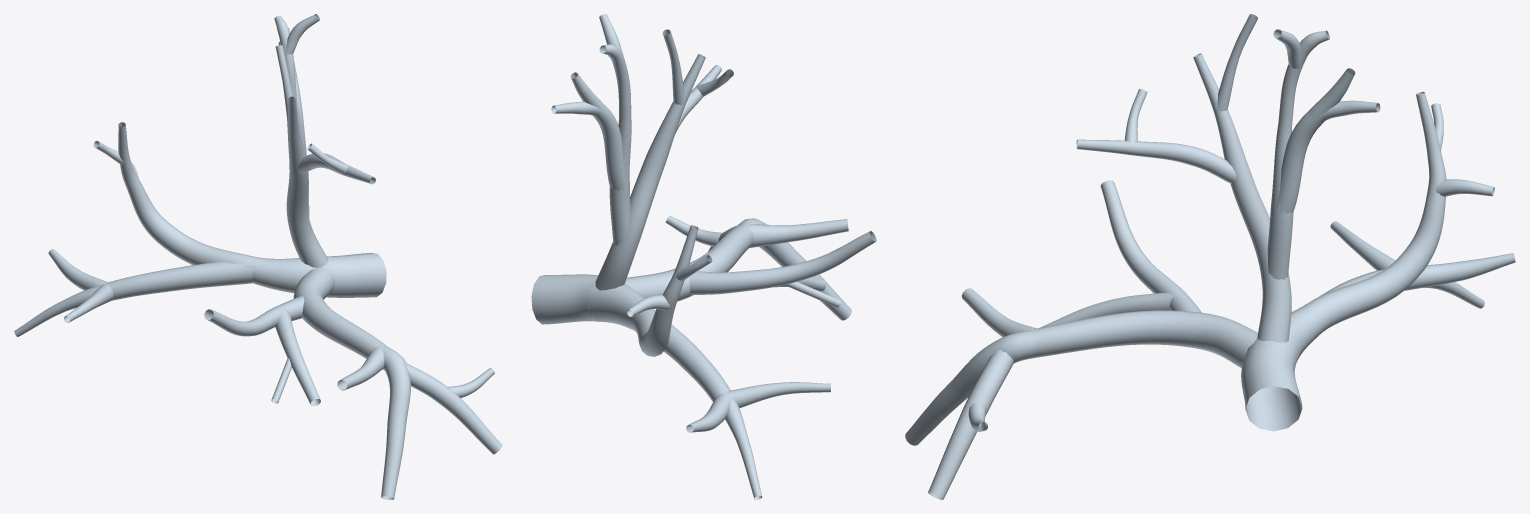
Rendered from visceras-right-superior-lobar-bronchus.glb.
3 renders of one model, left to right at view 1: azimuth 30°, elevation 25°; view 2: azimuth 150°, elevation 25°; view 3: azimuth 270°, elevation 25°, orthographic. The views are drawn at different scales.
Parts seen in each view (by area): view 1: Anterior segmental bronchus of right lung (BIII), Posterior segmental bronchus of right lung (BII), Apical segmental bronchus of right lung (BI), Right superior lobar bronchus; view 2: Apical segmental bronchus of right lung (BI), Anterior segmental bronchus of right lung (BIII), Posterior segmental bronchus of right lung (BII), Right superior lobar bronchus; view 3: Anterior segmental bronchus of right lung (BIII), Apical segmental bronchus of right lung (BI), Posterior segmental bronchus of right lung (BII), Right superior lobar bronchus.
Boxes of the visible parts, x1=… form: Anterior segmental bronchus of right lung (BIII): x1=204, y1=267, x2=502, y2=499; Posterior segmental bronchus of right lung (BII): x1=14, y1=122, x2=329, y2=336; Apical segmental bronchus of right lung (BI): x1=274, y1=14, x2=375, y2=267; Right superior lobar bronchus: x1=326, y1=252, x2=386, y2=297; Apical segmental bronchus of right lung (BI): x1=551, y1=14, x2=733, y2=290; Anterior segmental bronchus of right lung (BIII): x1=625, y1=215, x2=876, y2=320; Posterior segmental bronchus of right lung (BII): x1=588, y1=225, x2=830, y2=499; Right superior lobar bronchus: x1=531, y1=274, x2=599, y2=324; Anterior segmental bronchus of right lung (BIII): x1=905, y1=180, x2=1257, y2=499; Apical segmental bronchus of right lung (BI): x1=1076, y1=14, x2=1380, y2=343; Posterior segmental bronchus of right lung (BII): x1=1252, y1=91, x2=1515, y2=363; Right superior lobar bronchus: x1=1241, y1=340, x2=1302, y2=431.
Bounding box in the file's own units: 0.0886 × 0.1064 × 0.1283.
